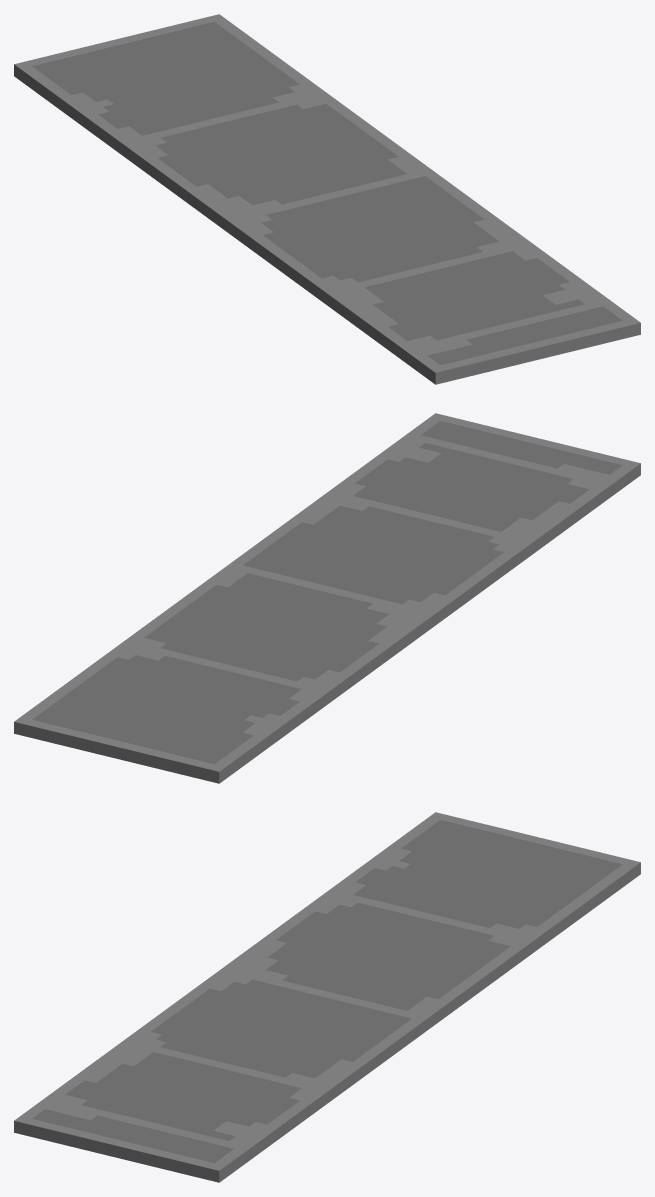
Rendered from obj_driveway1.obj.
3 views of the same model, one above another, from view 1: azimuth 30°, elevation 25°; view 2: azimuth 150°, elevation 25°; view 3: azimuth 330°, elevation 25° (orthographic).
Size of the model in its own units: 1.8 by 0.1 by 6.4.
1 material, 1 textured.
